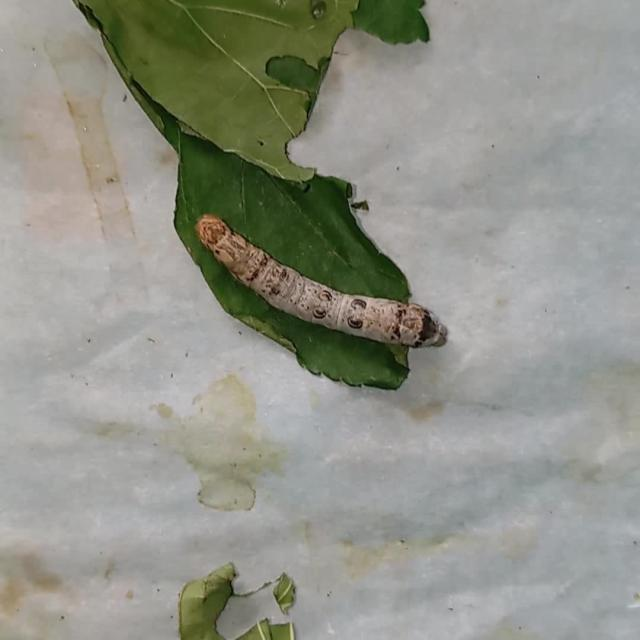Grasserie: (189, 204, 455, 358)
